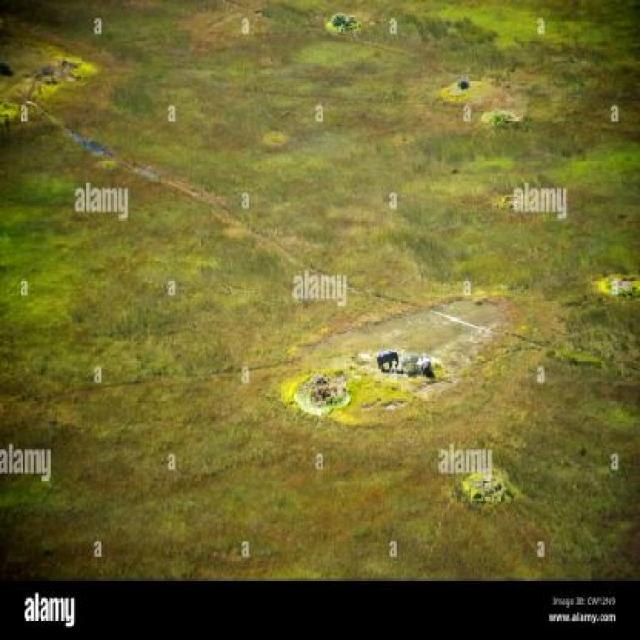elephant: (372, 341, 406, 382), (418, 348, 433, 378)
